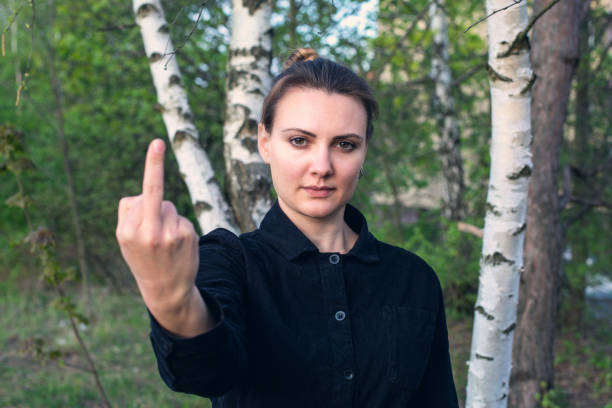insulting_gesture: (115, 137, 199, 299)
